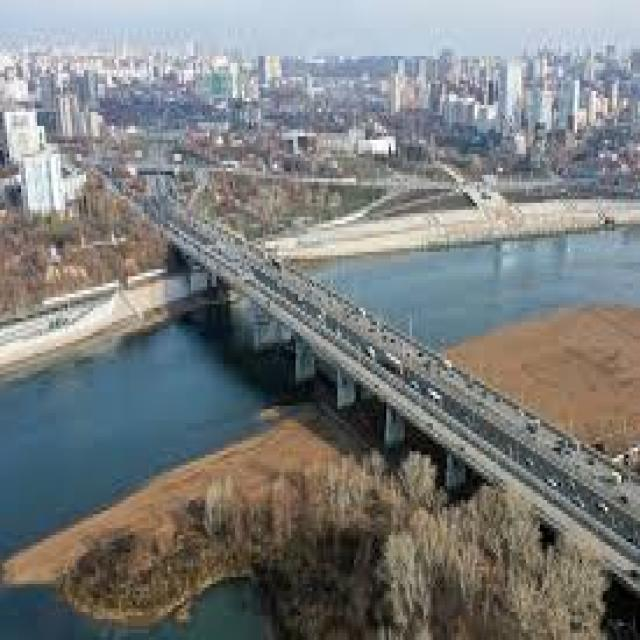Bridges: (96, 137, 640, 608)
